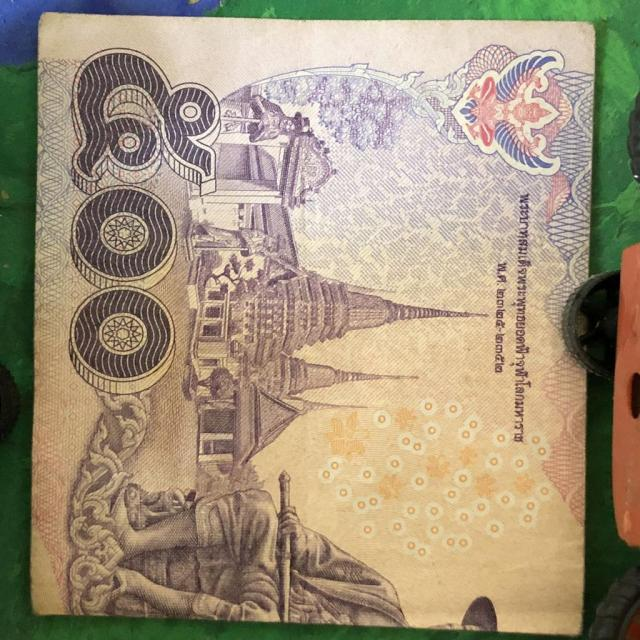THAI500: (31, 14, 594, 634)
